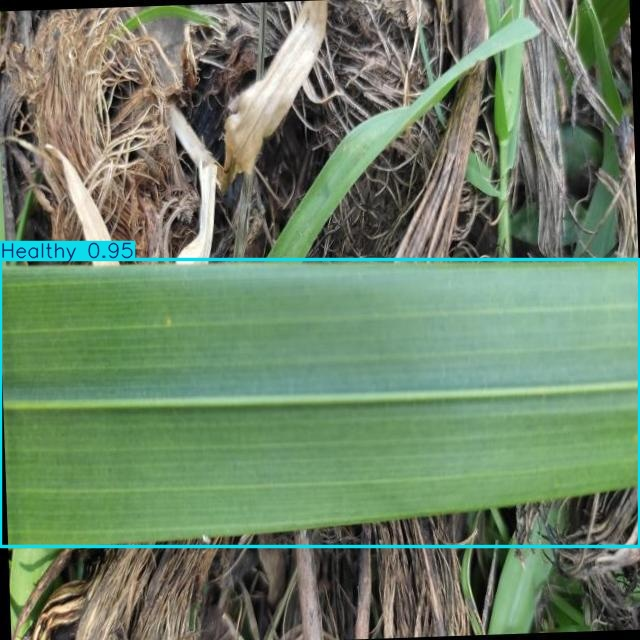Healthy: (1, 260, 640, 547)
